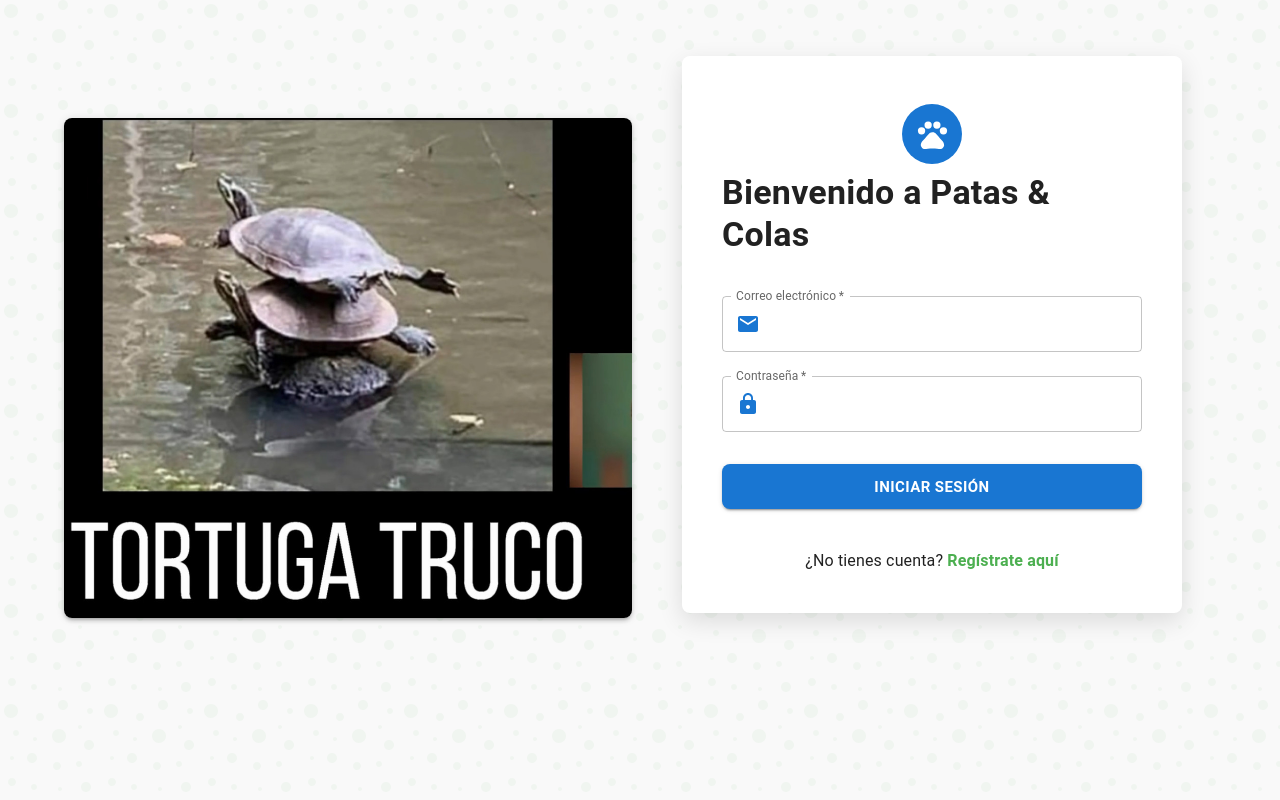
Scenario: LoginPage Component › should show error message on login failure
Type "test@example.com" into the field labelled "Correo electrónico *" at (955, 324), box [768,296,1142,352]
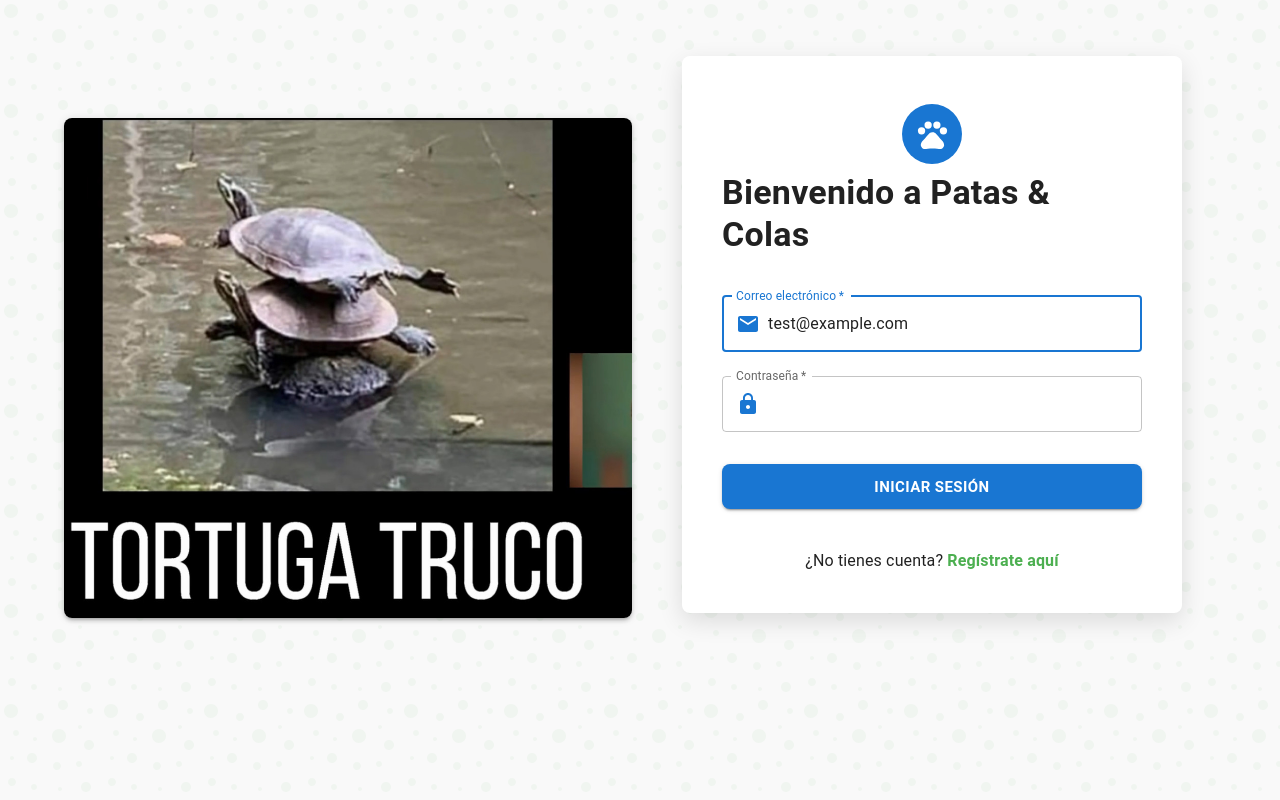
Type "wrongpassword" into the password field labelled "Contraseña *" at (955, 404), box [768,376,1142,432]
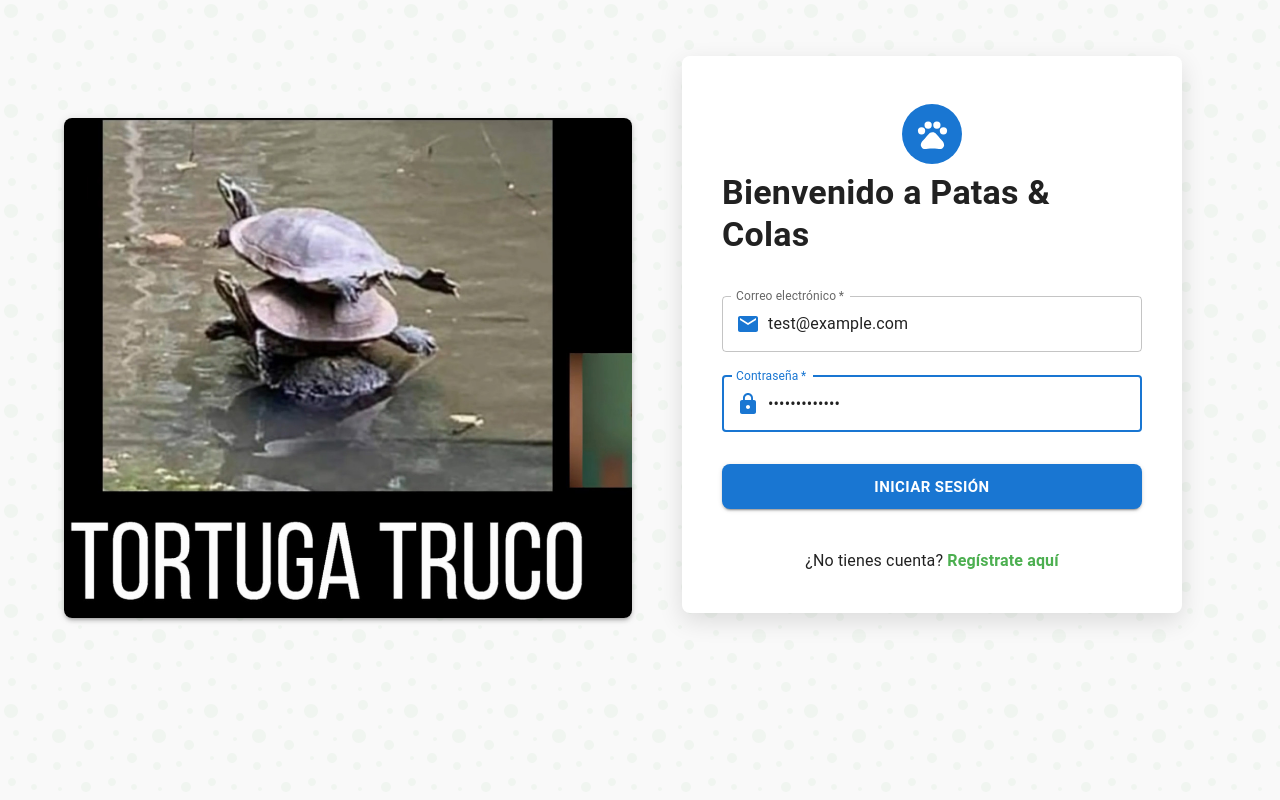
Click the button "Iniciar Sesión" at (932, 487), box [722,464,1142,509]
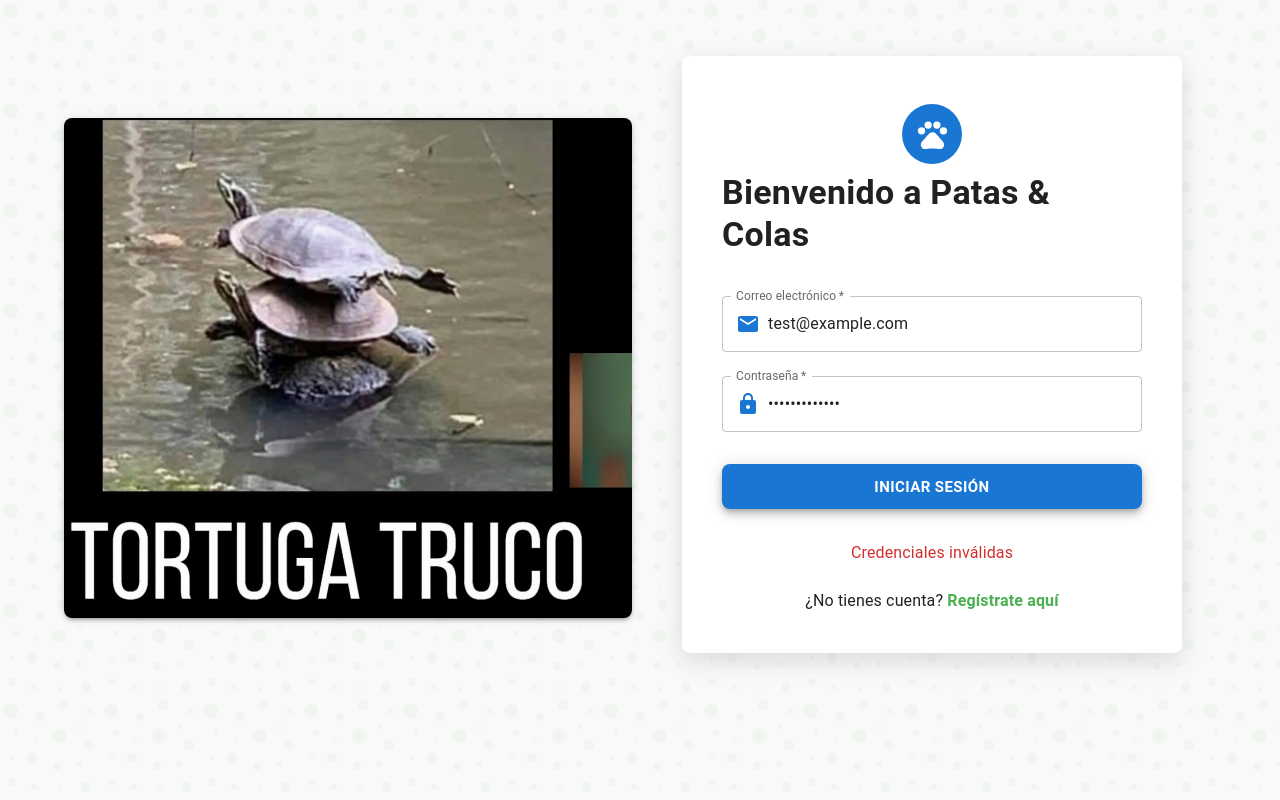
Expected: the text "Credenciales inválidas" is shown, [851,541,1013,565]
